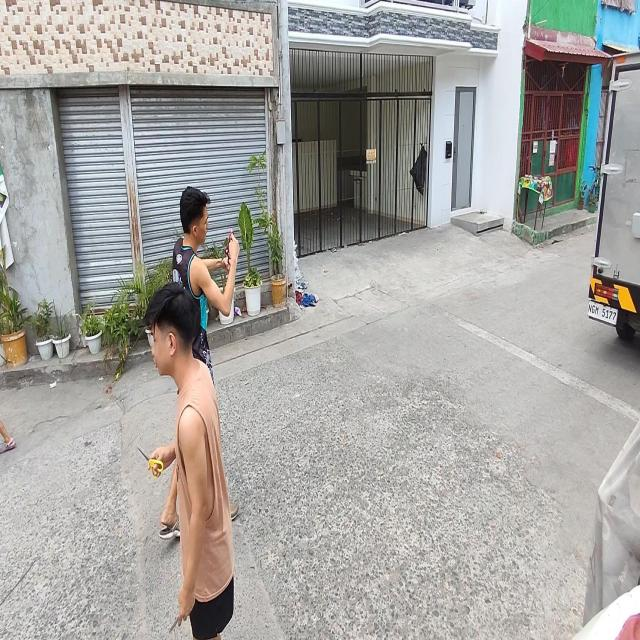scissor: (137, 446, 163, 478), (220, 232, 235, 266)
